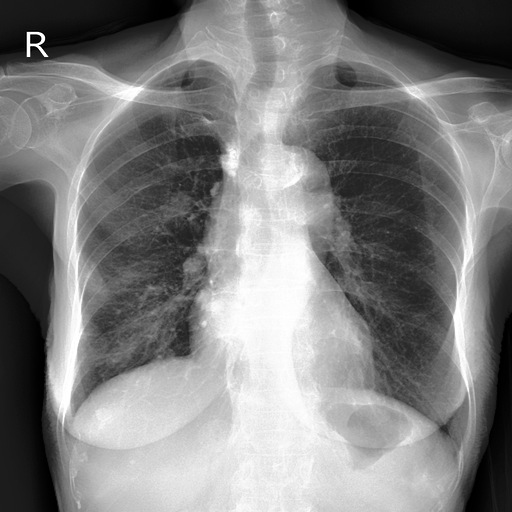Atelectasis: (232, 19, 287, 140)
Consolidation: (237, 143, 335, 214)
Other lesion: (232, 19, 287, 140)
Pleural thickening: (71, 256, 108, 296)
